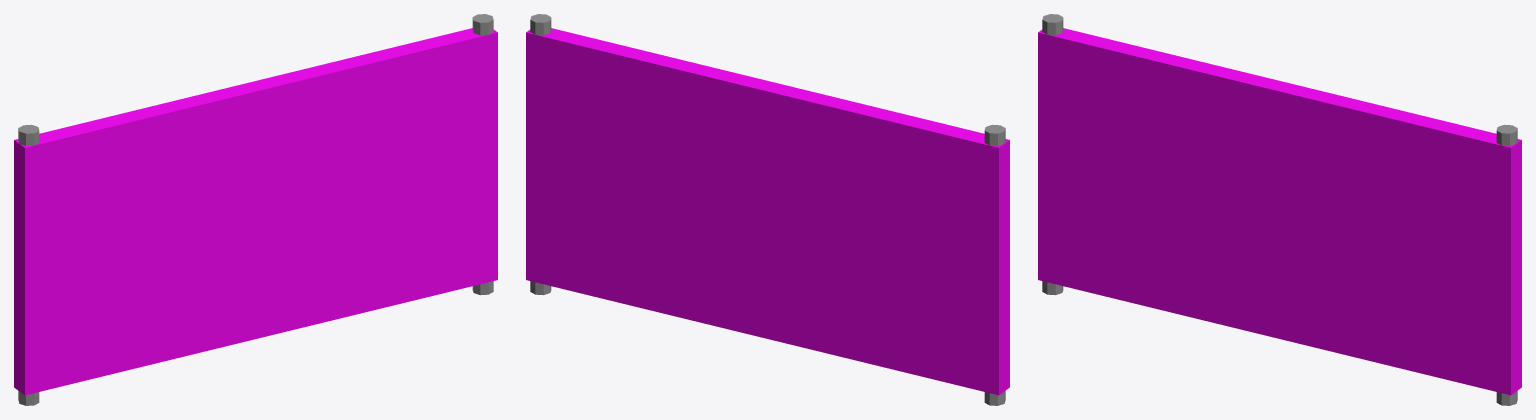
Rendered from ribbon_yellow_2m.dae.
The picture shows the model from 3 angles, left to right: view 1: azimuth 30°, elevation 25°; view 2: azimuth 150°, elevation 25°; view 3: azimuth 330°, elevation 25°; orthographic projection.
Visible parts, largest first — view 1: Colmesh_panel-1, post_0, post_1; view 2: Colmesh_panel-1, post_0, post_1; view 3: Colmesh_panel-1, post_1, post_0.
Part boxes in pixels (x1,y1,x2,y2): Colmesh_panel-1: (14, 28, 497, 395); post_0: (18, 124, 39, 405); post_1: (472, 14, 493, 295); Colmesh_panel-1: (526, 28, 1009, 395); post_0: (984, 124, 1005, 405); post_1: (530, 14, 551, 295); Colmesh_panel-1: (1038, 28, 1521, 395); post_1: (1496, 124, 1517, 405); post_0: (1042, 14, 1063, 295).
Bounding box in the file's own units: 2 × 0.08 × 1.1.
